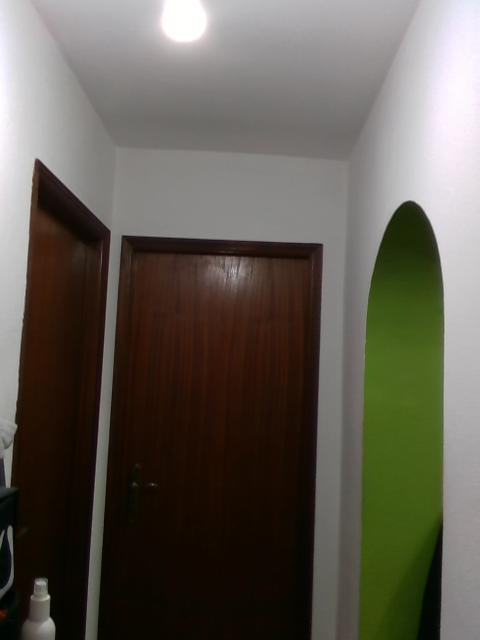door: (108, 250, 313, 640), (25, 202, 88, 640)
